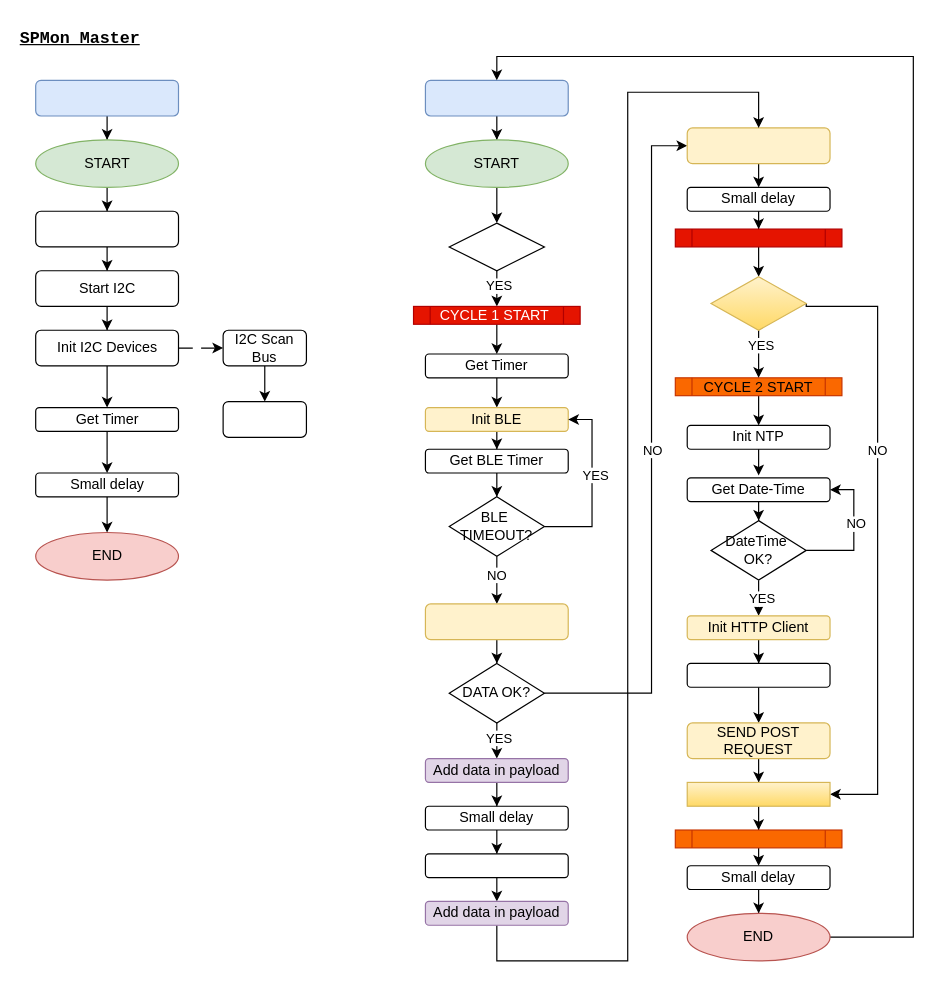
This 944x991 diagram has some shape labels left out. Each missing label, with the centre of its shape:
"BLE RX DATA" belongs at [496,621].
"Create JSON" belongs at [758,674].
"CYCLE 1 END" belongs at [758,237].
"CYCLE 2 END" belongs at [758,838].
"Init INA3221" belongs at [264,418].
"Loop" belongs at [496,97].
"PERIOD?" belongs at [496,246].
"READ INA3221" belongs at [496,865].
"Setup" belongs at [106,97].
"Start Serial COM" belongs at [106,228].
"STOP BLE" belongs at [758,145].
"WIFI DISCONNECT" belongs at [758,793].
"WIFI?" belongs at [758,302].
